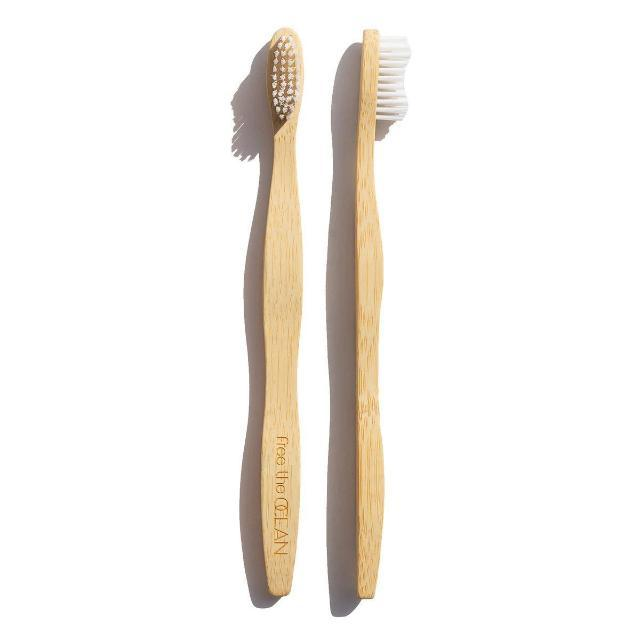toothbrush: (314, 0, 428, 622)
